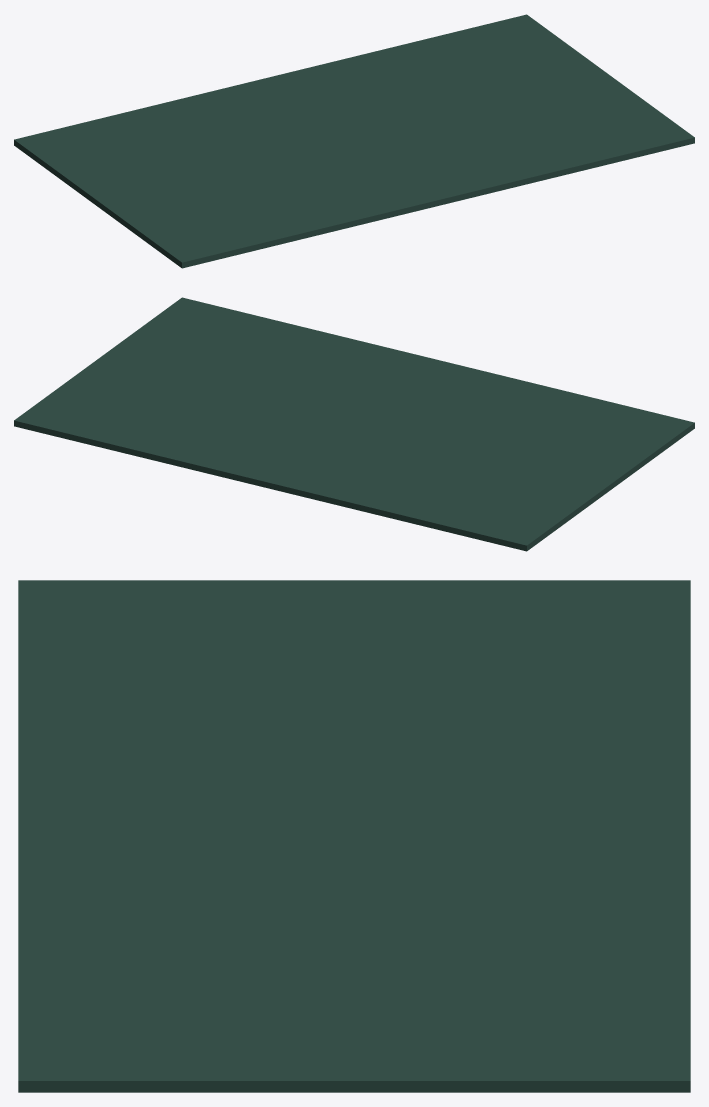
File: RUG.fbx
3 views of the same model, one above another, from view 1: azimuth 30°, elevation 25°; view 2: azimuth 150°, elevation 25°; view 3: azimuth 270°, elevation 25° (orthographic). The views are drawn at different scales.
Visible parts, largest first — view 1: pCube35; view 2: pCube35; view 3: pCube35.
Part boxes in pixels (x1=…): pCube35: x1=14, y1=14, x2=694, y2=268; pCube35: x1=14, y1=297, x2=694, y2=551; pCube35: x1=18, y1=580, x2=690, y2=1092.
Bounding box in the file's own units: 590 × 6.45 × 335.
